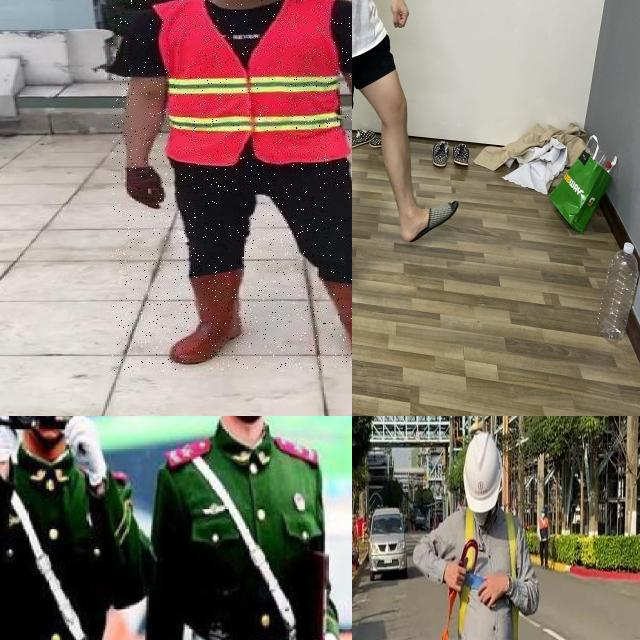Harness: (442, 504, 482, 640)
Sandals: (401, 200, 459, 243)
boots: (169, 271, 244, 365), (313, 273, 352, 362)
hand_glove: (62, 416, 105, 481), (0, 416, 20, 447)
person: (112, 0, 352, 371), (137, 416, 352, 640), (0, 416, 151, 640)
vest: (157, 0, 351, 165)
